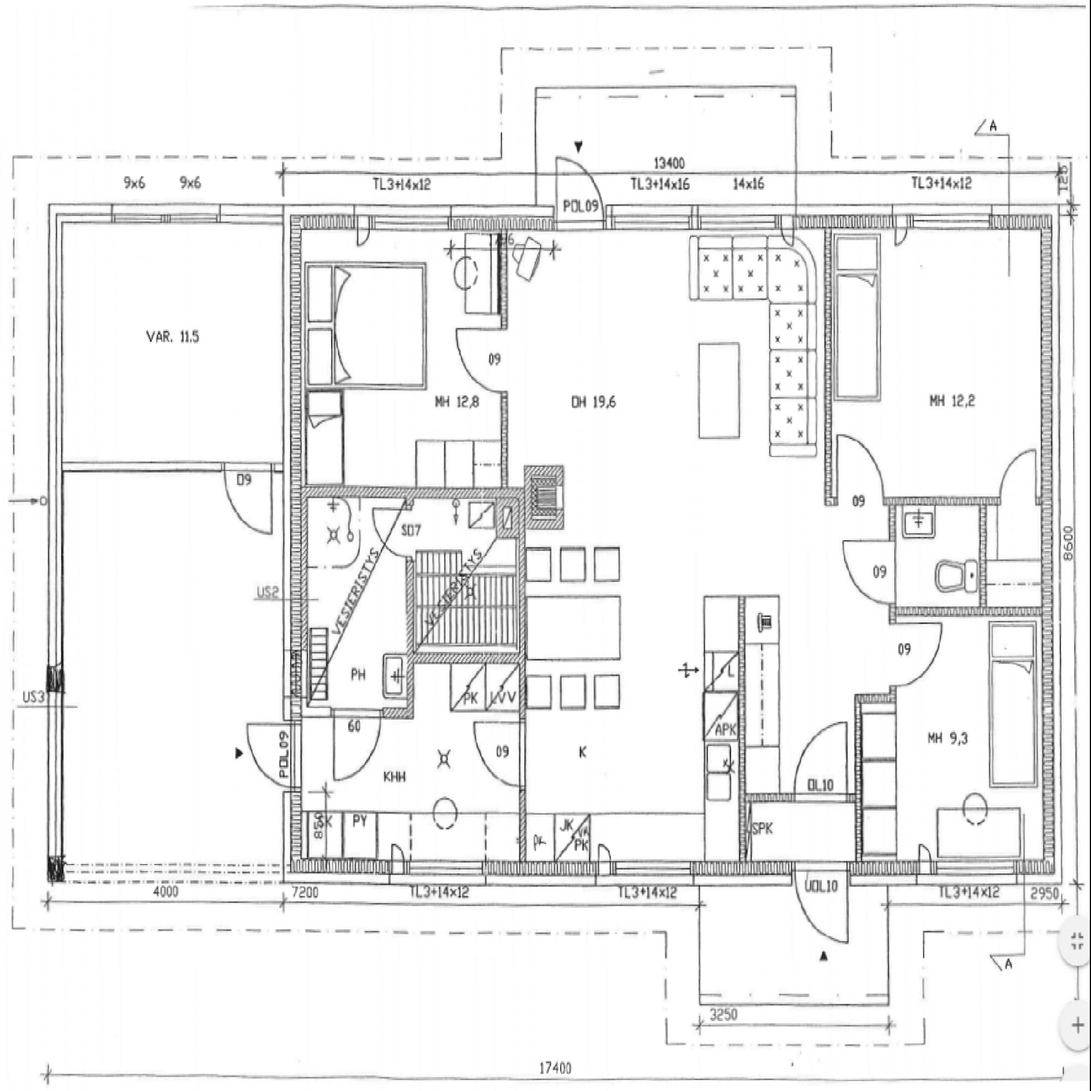wall: (283, 862, 1061, 887), (301, 205, 1061, 230), (1042, 205, 1061, 887), (282, 487, 307, 718), (49, 205, 301, 224), (283, 205, 301, 461), (49, 205, 63, 472), (518, 487, 527, 887), (283, 718, 301, 887), (49, 461, 301, 473), (301, 487, 527, 498), (406, 644, 527, 663), (825, 205, 832, 505), (406, 487, 415, 718), (825, 497, 1061, 505), (501, 205, 507, 498), (739, 595, 745, 887), (890, 608, 1061, 616), (890, 497, 896, 704), (856, 693, 862, 887), (301, 708, 414, 718), (739, 794, 862, 802), (980, 497, 986, 616), (283, 461, 301, 487), (856, 693, 896, 704)
